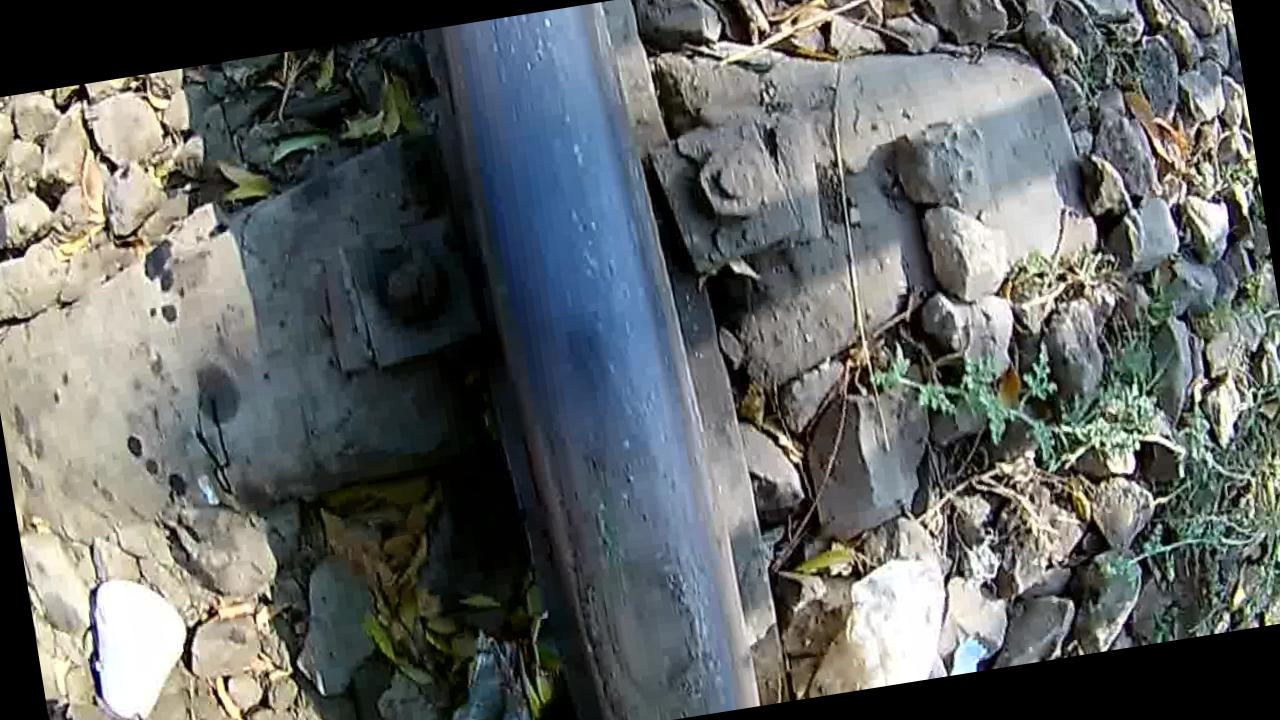bolt_missing: (514, 335, 734, 720)
